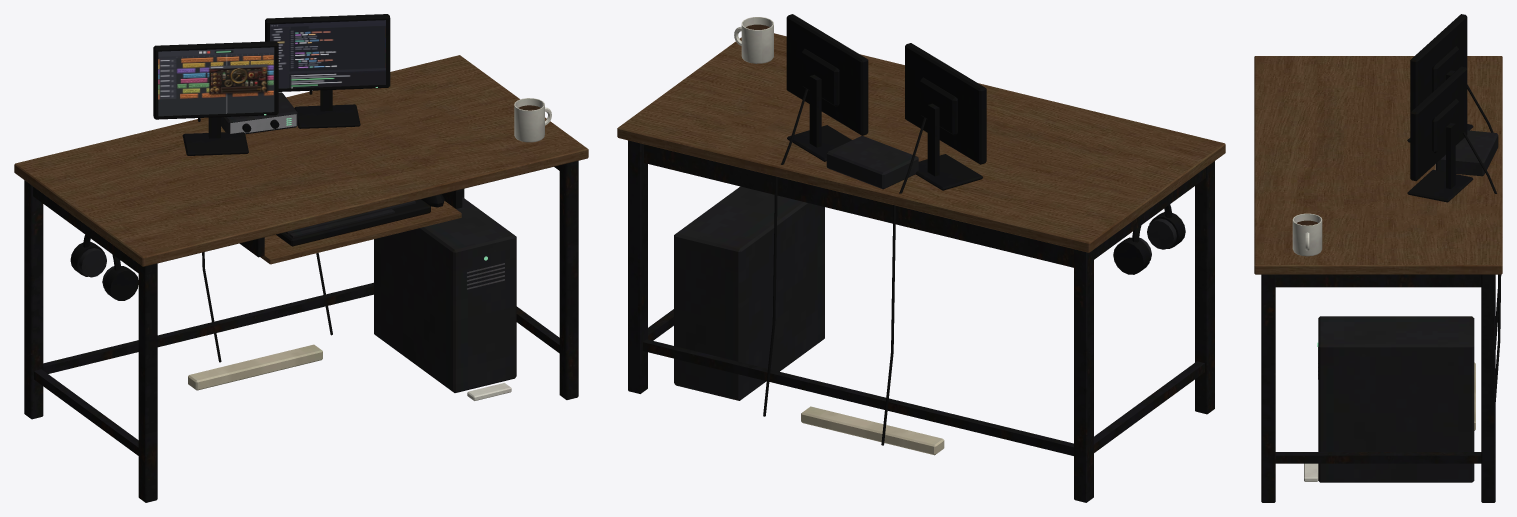
The model's file is test-desk.glb.
3 views of the same model, side by side, from view 1: azimuth 30°, elevation 25°; view 2: azimuth 150°, elevation 25°; view 3: azimuth 270°, elevation 25° (orthographic). The views are drawn at different scales.
Parts seen in each view (by area): view 1: test_desk; view 2: test_desk; view 3: test_desk.
Boxes of the visible parts, x1,y1,x2,y2 form: test_desk: (14, 14, 588, 502); test_desk: (617, 14, 1225, 502); test_desk: (1254, 14, 1502, 502).
Bounding box in the file's own units: 1.4 × 1.06 × 0.7.
Materials: 4 (4 with a texture image).
